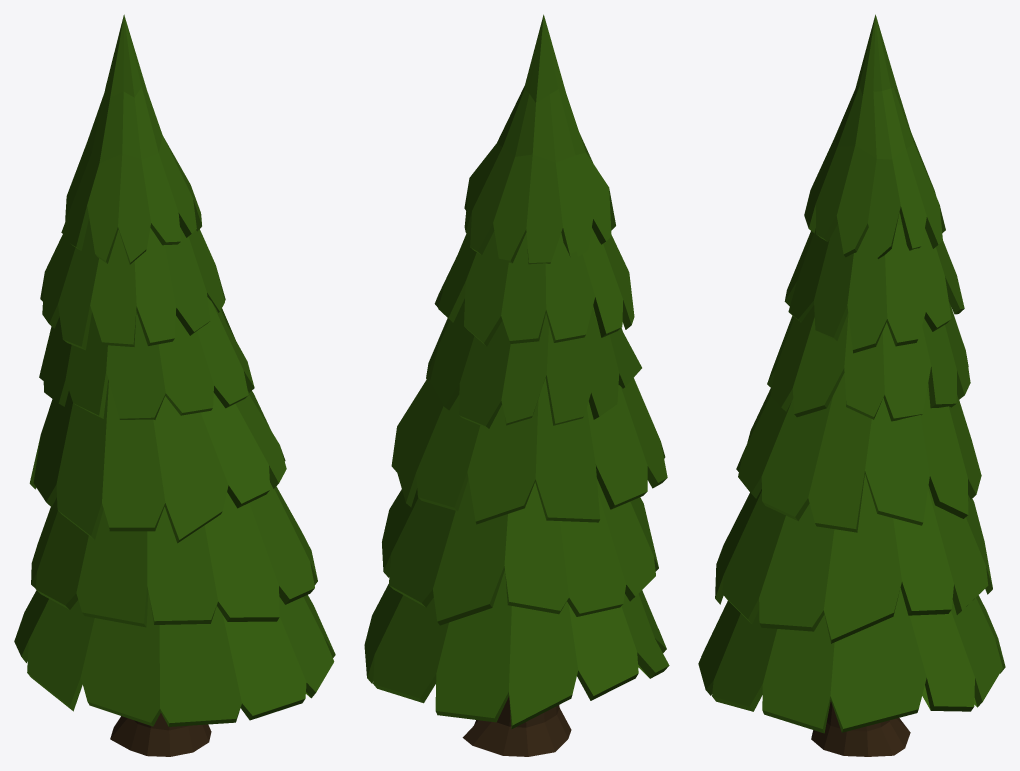
The model's file is folliage10.glb.
3 views of the same model, side by side, from view 1: azimuth 30°, elevation 25°; view 2: azimuth 150°, elevation 25°; view 3: azimuth 270°, elevation 25° (orthographic). The views are drawn at different scales.
Parts seen in each view (by area): view 1: LowPoly Tree 07.035; view 2: LowPoly Tree 07.035; view 3: LowPoly Tree 07.035.
Part boxes in pixels (x1=…): LowPoly Tree 07.035: x1=14, y1=14, x2=335, y2=756; LowPoly Tree 07.035: x1=364, y1=14, x2=669, y2=756; LowPoly Tree 07.035: x1=698, y1=14, x2=1005, y2=756.
Size of the model in its own units: 0.8157 by 2.02 by 0.7963.
